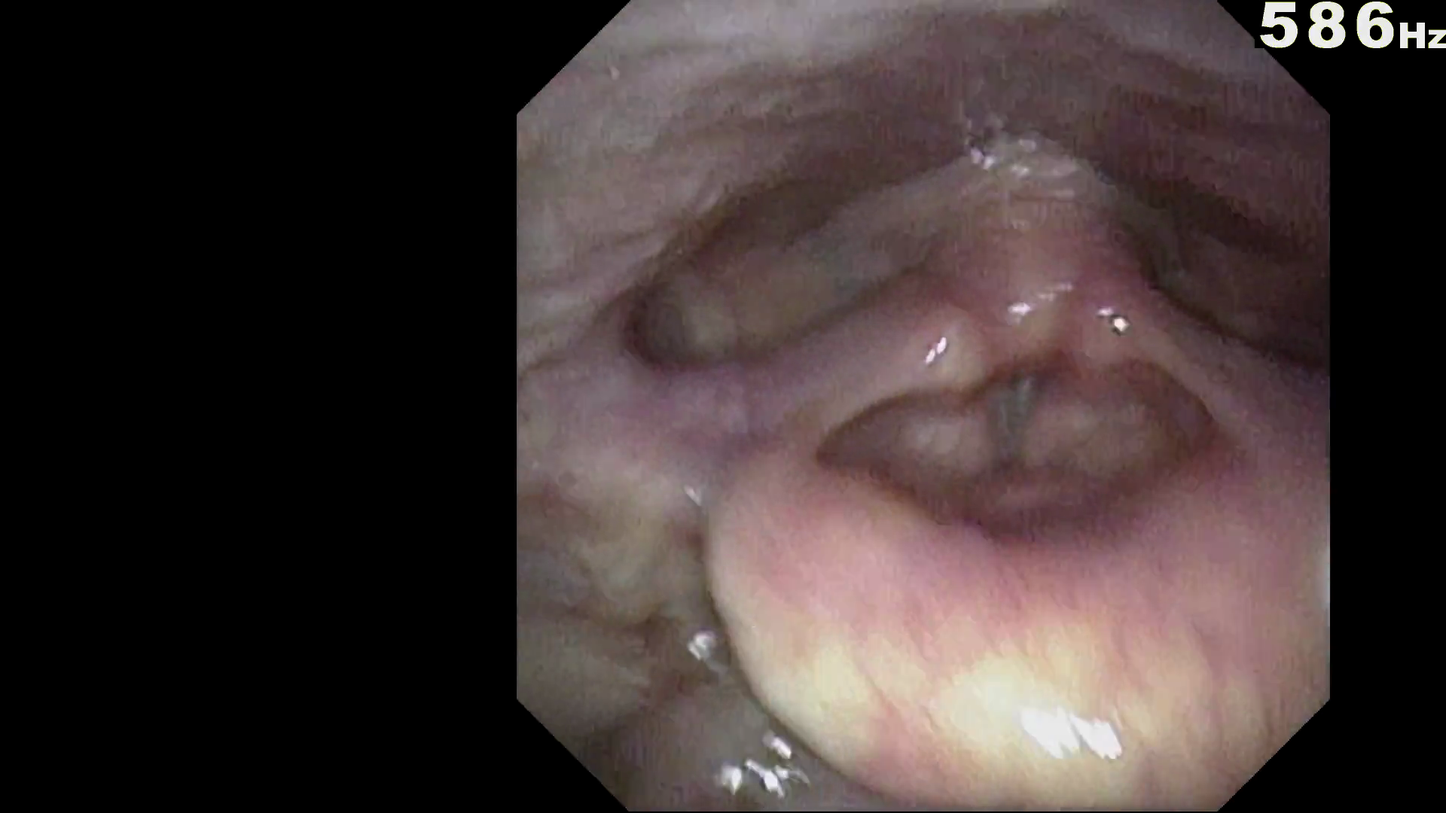epiglottis: (762, 526, 1283, 713)
trachea: (971, 360, 1067, 490)
